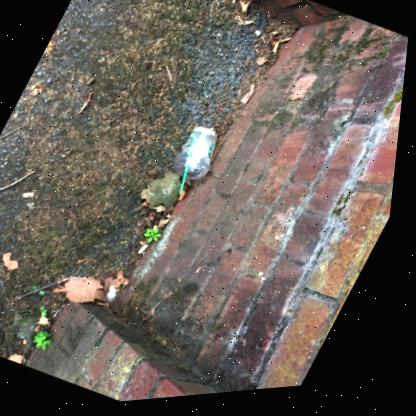Plastic: (176, 129, 220, 173), (176, 160, 213, 182), (183, 169, 192, 196)
Waste: (142, 245, 153, 256), (281, 41, 292, 47), (274, 46, 279, 56), (231, 2, 235, 7)
